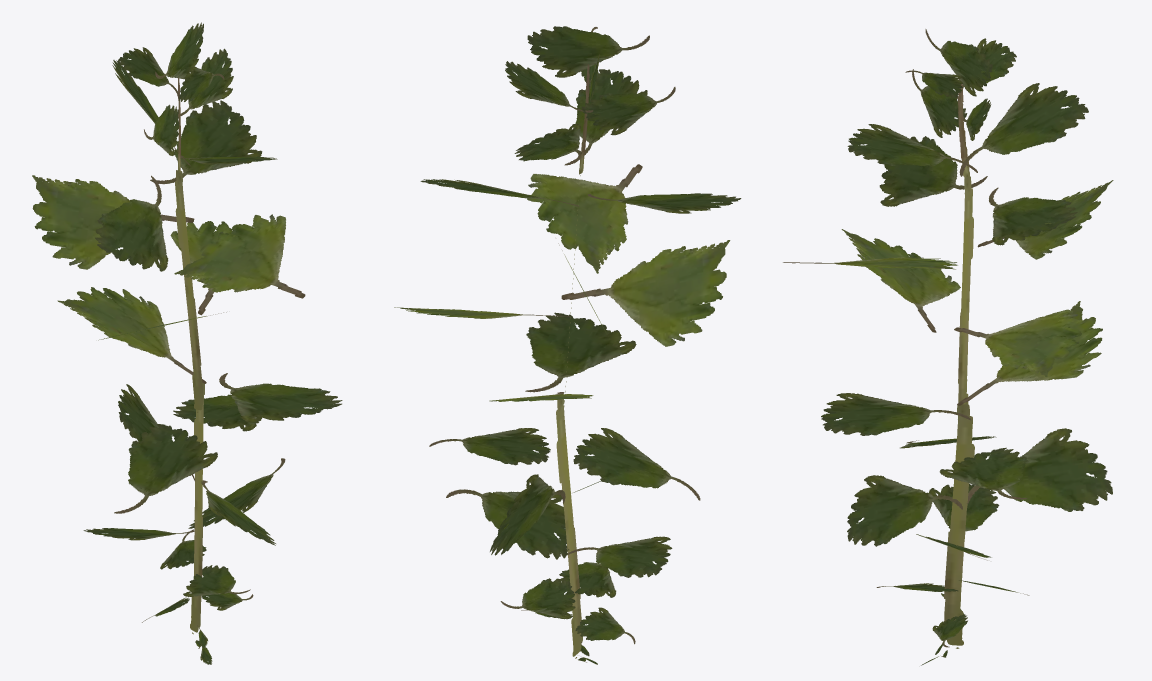
3 renders of one model, left to right at view 1: azimuth 30°, elevation 25°; view 2: azimuth 150°, elevation 25°; view 3: azimuth 270°, elevation 25°, orthographic. The views are drawn at different scales.
Parts seen in each view (by area): view 1: nettle_plant__d_lod1; view 2: nettle_plant__d_lod1; view 3: nettle_plant__d_lod1.
Part boxes in pixels (<box>): nettle_plant__d_lod1: <box>32,22,342,664</box>; nettle_plant__d_lod1: <box>394,26,741,664</box>; nettle_plant__d_lod1: <box>783,29,1113,665</box>.
Size of the model in its own units: 0.0897 by 0.1924 by 0.1003.
1 material, 1 textured.
